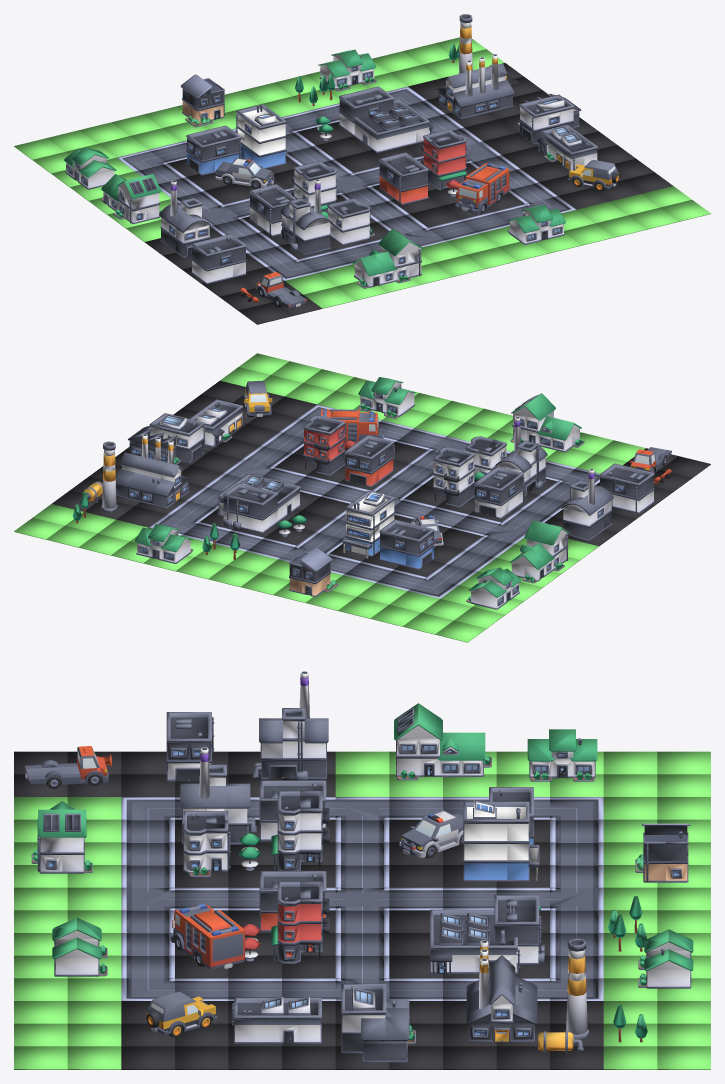
Rendered from small_city_01.glb.
3 views of the same model, one above another, from view 1: azimuth 30°, elevation 25°; view 2: azimuth 150°, elevation 25°; view 3: azimuth 270°, elevation 25° (orthographic). The views are drawn at different scales.
Visible parts, largest first — view 1: building-q, building-m, building-type-b.004, building-d, building-n.002, building-type-b.003, building-n.004, building-o.004, building-b.001, building-o.003, building-o, building-t (+85 smaller); view 2: building-q, building-m, building-t, building-type-b.003, building-type-b.004, building-d, building-n.004, building-o, building-b, building-b.001, building-o.003, building-o.002 (+94 smaller); view 3: building-q, building-d, building-m, building-type-b.003, building-t, building-n.004, building-p, building-b.001, building-b, firetruck, building-type-b.004, building-n.002 (+136 smaller).
Part boxes in pixels (box(x1,y1,x2,y2)): building-q: box(339, 86, 433, 152); building-m: box(437, 54, 514, 119); building-type-b.004: box(352, 228, 423, 288); building-d: box(236, 104, 286, 168); building-n.002: box(280, 179, 332, 255); building-type-b.003: box(101, 174, 161, 223); building-n.004: box(159, 180, 211, 257); building-o.004: box(191, 234, 246, 284); building-b.001: box(421, 129, 466, 189); building-o.003: box(379, 152, 428, 204); building-o: box(186, 125, 241, 175); building-t: box(517, 93, 580, 144); building-q: box(217, 474, 300, 533); building-m: box(115, 434, 190, 508); building-t: box(128, 413, 205, 464); building-type-b.003: box(509, 520, 569, 583); building-type-b.004: box(510, 393, 584, 452); building-d: box(342, 490, 394, 558); building-n.004: box(561, 468, 613, 540); building-o: box(379, 519, 434, 569); building-b: box(433, 447, 474, 507); building-b.001: box(303, 415, 345, 475); building-o.003: box(344, 435, 394, 487); building-o.002: box(474, 466, 524, 518); building-q: box(430, 895, 544, 975); building-d: box(463, 800, 539, 881); building-m: box(466, 940, 537, 1042); building-type-b.003: box(394, 703, 491, 780); building-t: box(341, 983, 415, 1062); building-n.004: box(252, 671, 328, 780); building-p: box(231, 996, 321, 1043); building-b.001: box(277, 881, 329, 963); building-b: box(277, 791, 329, 870); firetruck: box(170, 903, 244, 969); building-type-b.004: box(31, 801, 92, 873); building-n.002: box(180, 747, 256, 844).
Bounding box in the file's own units: 14 × 1.94 × 13.
Materials: 33 (32 with a texture image).
